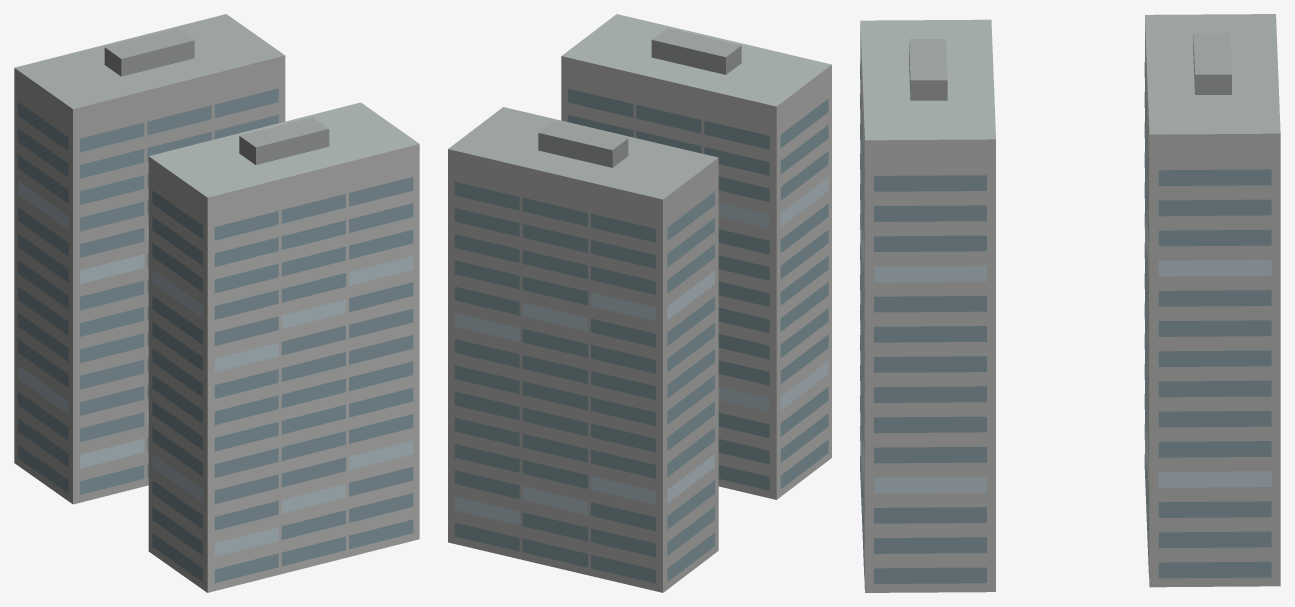
The model's file is apt-a15386303.glb.
3 views of the same model, side by side, from view 1: azimuth 30°, elevation 25°; view 2: azimuth 150°, elevation 25°; view 3: azimuth 270°, elevation 25° (orthographic). The views are drawn at different scales.
Parts seen in each view (by area): view 1: apt-a15386303; view 2: apt-a15386303; view 3: apt-a15386303.
Part boxes in pixels (bbox=[...]): apt-a15386303: bbox=[14, 14, 419, 592]; apt-a15386303: bbox=[448, 14, 831, 592]; apt-a15386303: bbox=[860, 14, 1280, 592].
Size of the model in its own units: 27.45 by 47.81 by 38.56.
